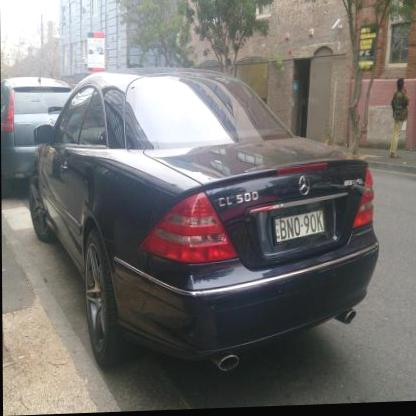License_Plate: (272, 209, 327, 247)
